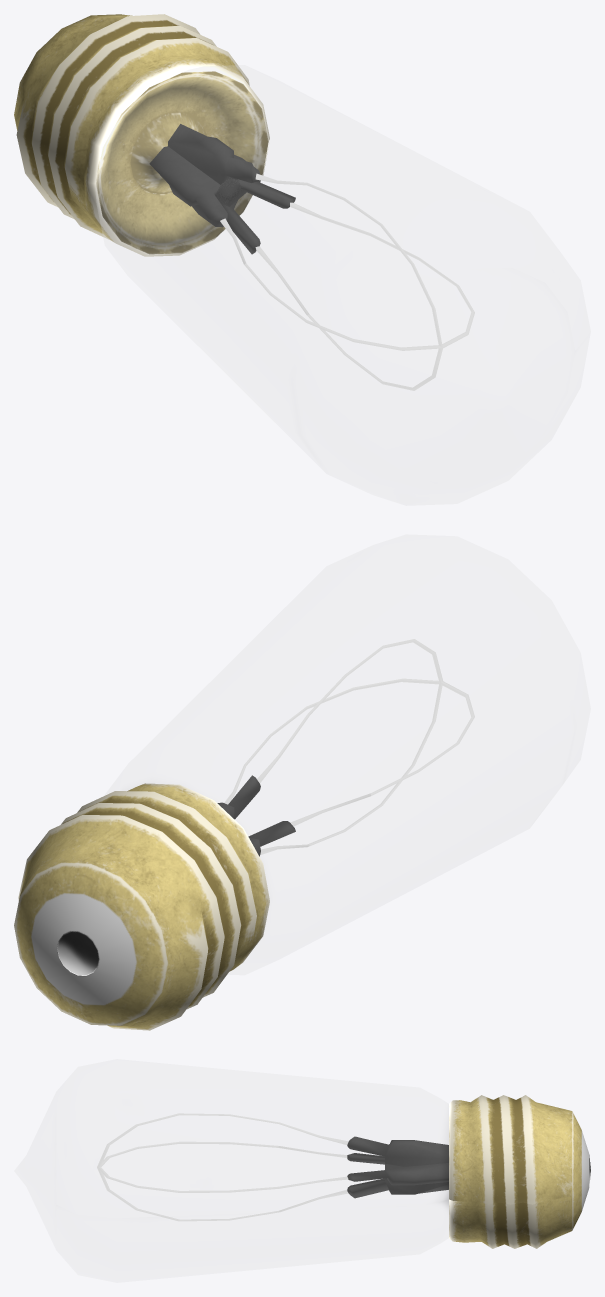
File: lightBulbOptimized.glb
The picture shows the model from 3 angles, top to bottom: view 1: azimuth 30°, elevation 25°; view 2: azimuth 150°, elevation 25°; view 3: azimuth 270°, elevation 25°; orthographic projection. The views are drawn at different scales.
Visible parts, largest first — view 1: Bulb_low__0; view 2: Bulb_low__0; view 3: Bulb_low__0.
Part boxes in pixels (x1,y1,x2,y2): Bulb_low__0: (14,14,590,505); Bulb_low__0: (14,534,590,1030); Bulb_low__0: (14,1059,590,1282).
Size of the model in its own units: 1.36 by 1.36 by 3.49.
1 material, 1 textured.
